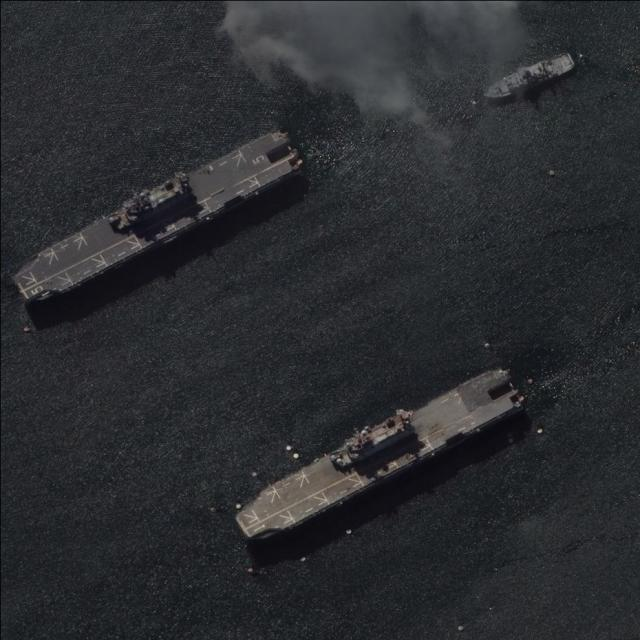Landing: (3, 121, 306, 308), (227, 359, 527, 546)
Other Warship: (480, 50, 575, 107)
